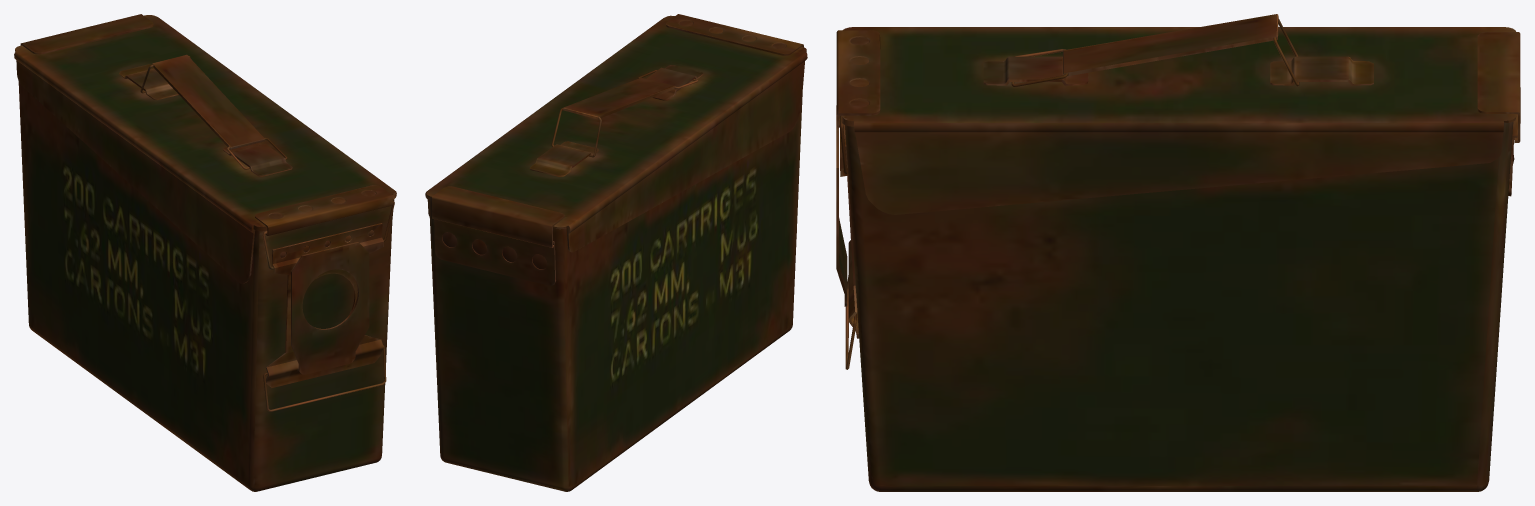
File: ammo_box.glb
3 views of the same model, side by side, from view 1: azimuth 30°, elevation 25°; view 2: azimuth 150°, elevation 25°; view 3: azimuth 270°, elevation 25° (orthographic). The views are drawn at different scales.
Visible parts, largest first — view 1: ammo_box_handle_ring_b; view 2: ammo_box_handle_ring_b; view 3: ammo_box_handle_ring_b.
Boxes of the visible parts, bbox=[...] form: ammo_box_handle_ring_b: bbox=[14, 14, 396, 491]; ammo_box_handle_ring_b: bbox=[425, 14, 807, 491]; ammo_box_handle_ring_b: bbox=[836, 14, 1520, 491].
Size of the model in its own units: 0.0865 by 0.1775 by 0.2579.
1 material, 1 textured.
